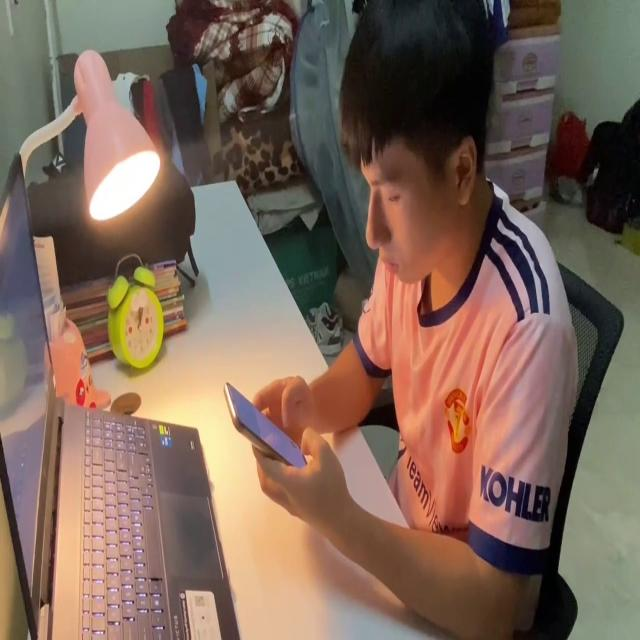laptop: (0, 150, 241, 640)
phone: (222, 376, 315, 473)
student: (248, 0, 576, 640)
